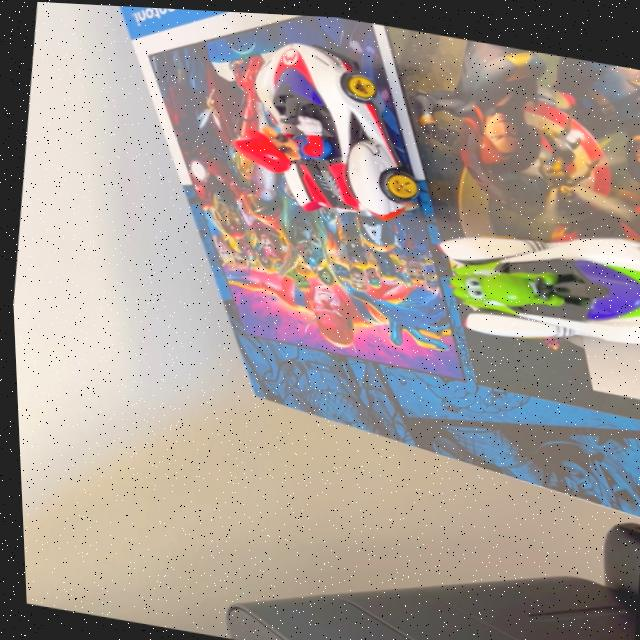mario: (212, 19, 452, 238)
yoshi: (413, 201, 640, 372)
